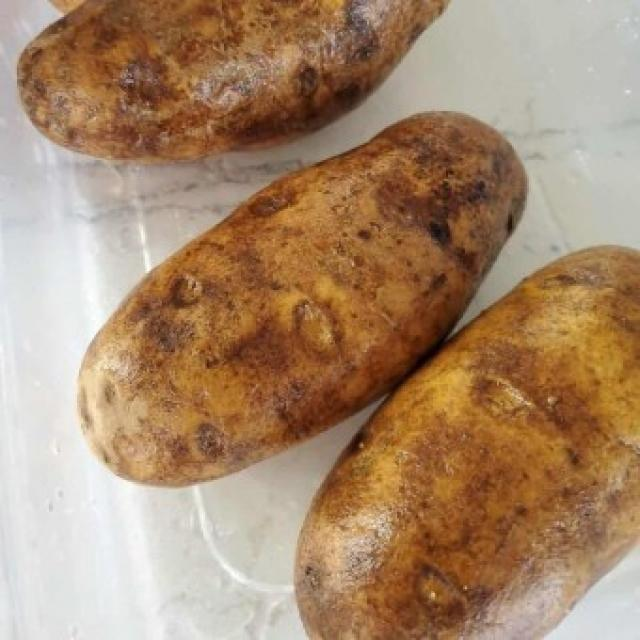potato: (68, 108, 528, 488), (292, 243, 640, 640), (18, 2, 458, 158)
